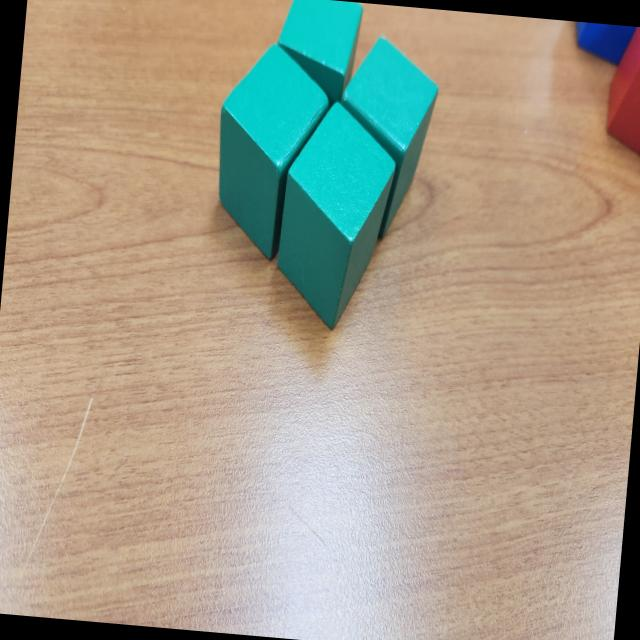blue: (568, 21, 638, 68)
green: (270, 98, 400, 334), (207, 38, 335, 266), (329, 33, 444, 244), (271, 0, 367, 113)
red: (601, 25, 640, 170)
